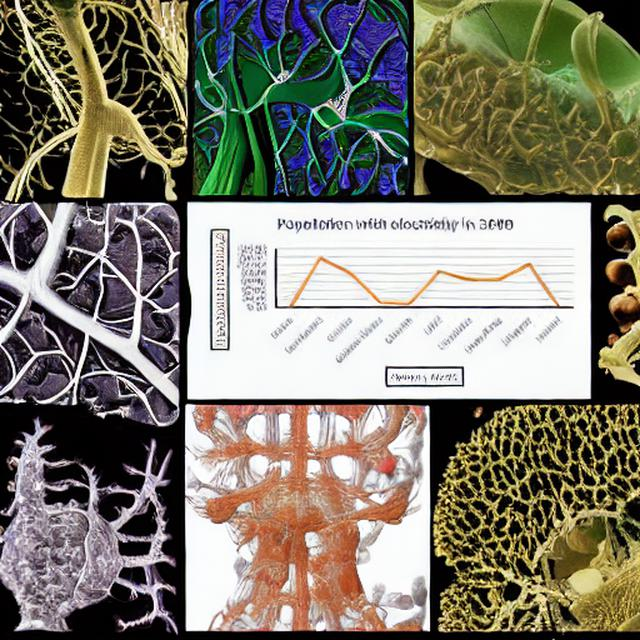Graph: (205, 205, 586, 397)
